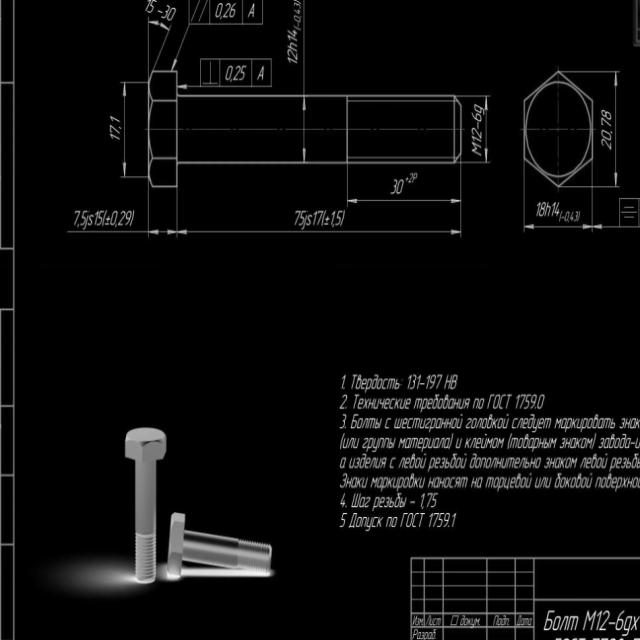marking_line: (344, 165, 462, 205), (178, 60, 275, 91), (594, 71, 619, 191), (524, 186, 593, 229), (120, 81, 148, 185), (178, 229, 460, 236), (145, 186, 180, 237), (146, 14, 173, 69), (170, 25, 192, 71), (301, 98, 307, 163), (485, 96, 490, 163), (595, 224, 640, 230)
numeric: (472, 141, 483, 157), (80, 209, 88, 227), (601, 138, 613, 150), (600, 108, 612, 120), (167, 7, 177, 21), (223, 2, 231, 19), (225, 64, 233, 81), (339, 512, 348, 527), (471, 127, 483, 138), (72, 209, 80, 225), (97, 210, 105, 226), (118, 210, 126, 226), (233, 65, 241, 81), (431, 492, 439, 508), (161, 5, 170, 19), (390, 177, 397, 195), (110, 211, 118, 226), (538, 202, 546, 217), (523, 394, 531, 409), (335, 209, 342, 226), (426, 492, 433, 509), (340, 394, 349, 407), (216, 2, 223, 18), (257, 65, 264, 81), (397, 178, 404, 194), (554, 201, 561, 217), (537, 394, 544, 410), (530, 393, 537, 409), (474, 104, 484, 115), (471, 112, 482, 122), (601, 117, 611, 128), (601, 130, 611, 141), (240, 65, 247, 80), (294, 210, 301, 225), (299, 211, 306, 226), (317, 210, 324, 225), (544, 202, 551, 217), (340, 415, 347, 430), (340, 493, 347, 508), (443, 512, 450, 527), (437, 512, 444, 527), (149, 0, 157, 13), (312, 210, 318, 227), (110, 124, 120, 134), (288, 41, 298, 51), (109, 114, 120, 123), (248, 3, 255, 17), (436, 375, 443, 389), (125, 210, 131, 226), (411, 373, 417, 389), (520, 394, 526, 410), (306, 213, 313, 226), (230, 3, 236, 18), (425, 374, 431, 389), (287, 51, 298, 59), (430, 372, 435, 389), (88, 214, 95, 226), (433, 513, 439, 527), (287, 29, 297, 37), (330, 211, 335, 226), (551, 202, 556, 217), (341, 375, 346, 390), (416, 374, 421, 389), (420, 493, 425, 508), (451, 513, 456, 528), (428, 512, 433, 527), (288, 34, 297, 42), (294, 14, 302, 23), (412, 171, 418, 183), (94, 211, 99, 225), (110, 134, 120, 141), (472, 136, 482, 143), (514, 395, 519, 409), (287, 58, 298, 64), (408, 172, 413, 184), (536, 202, 540, 217), (564, 210, 569, 222), (408, 375, 412, 389), (146, 0, 150, 12), (574, 211, 578, 222), (294, 2, 301, 8), (570, 211, 574, 221), (294, 10, 301, 15), (405, 177, 408, 181)
special_symbol: (321, 210, 328, 225), (129, 210, 135, 227), (340, 210, 345, 227), (105, 214, 110, 226), (294, 26, 302, 32), (325, 215, 330, 222), (410, 501, 416, 504), (477, 122, 479, 130), (324, 223, 329, 226), (610, 130, 613, 135), (297, 21, 299, 27), (561, 216, 565, 219), (299, 15, 302, 18), (422, 506, 424, 510), (448, 525, 450, 527)
